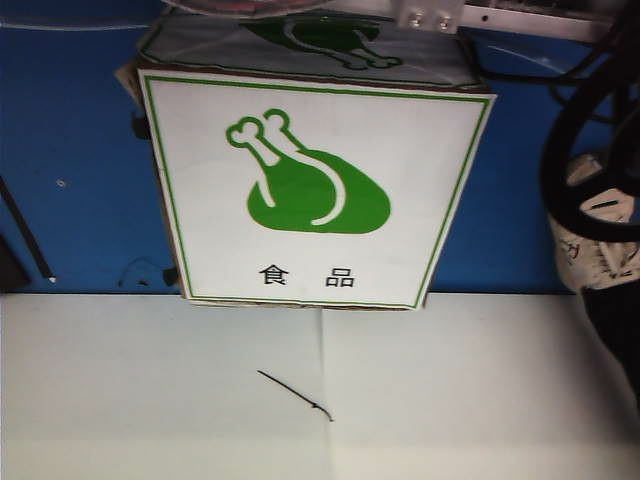Cube_food: (222, 107, 397, 300)
